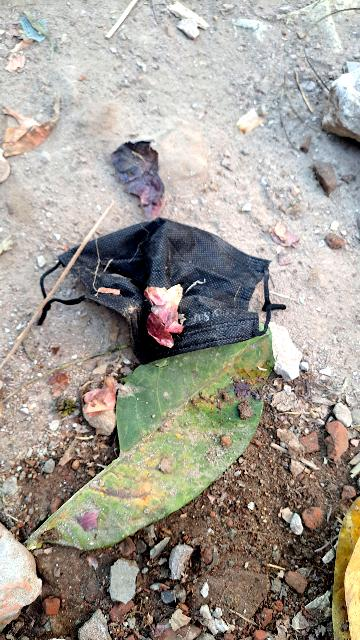mask: (71, 231, 266, 356)
